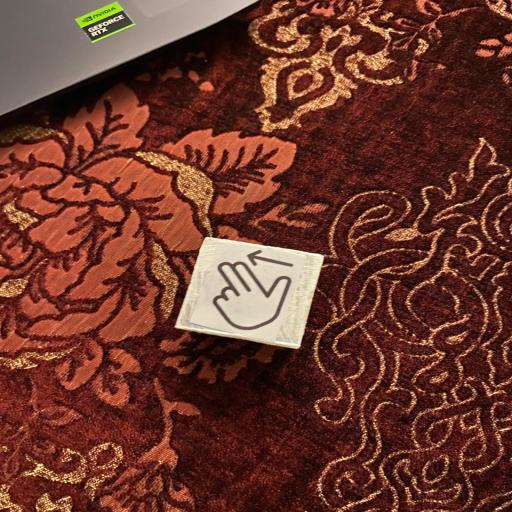LeftSwipe: (176, 236, 324, 348)
